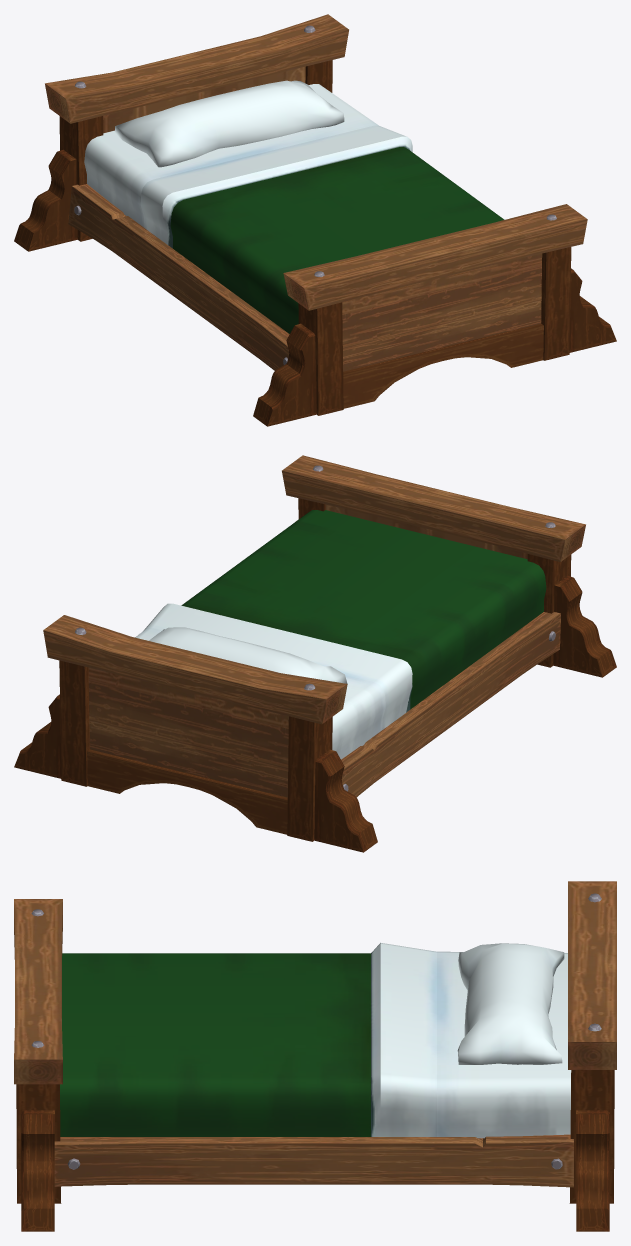
Rendered from Bed_Twin2.gltf.
The picture shows the model from 3 angles, top to bottom: view 1: azimuth 30°, elevation 25°; view 2: azimuth 150°, elevation 25°; view 3: azimuth 270°, elevation 25°; orthographic projection. The views are drawn at different scales.
Parts seen in each view (by area): view 1: Bed_Twin2; view 2: Bed_Twin2; view 3: Bed_Twin2.
Boxes of the visible parts, x1=… form: Bed_Twin2: x1=14, y1=14, x2=616, y2=426; Bed_Twin2: x1=14, y1=455, x2=616, y2=852; Bed_Twin2: x1=14, y1=881, x2=616, y2=1231.
Size of the model in its own units: 1.88 by 0.7596 by 2.41.
3 materials, 3 textured.
